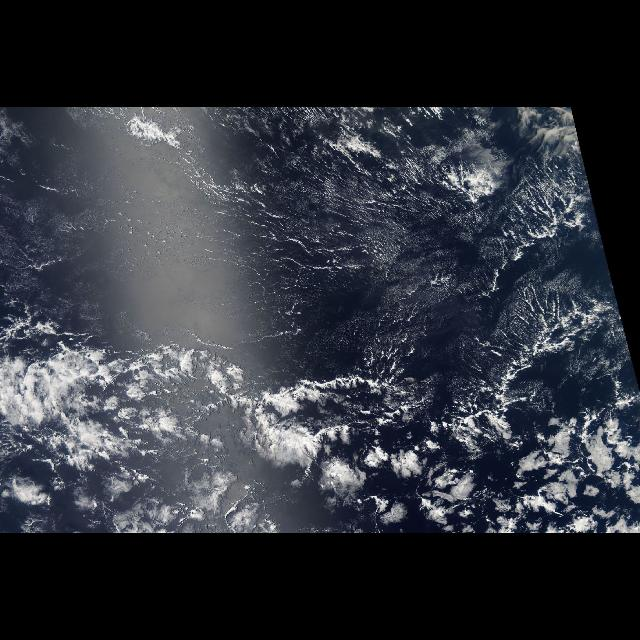Fish: (482, 160, 628, 410)
Flower: (334, 398, 636, 532)
Sugar: (301, 168, 624, 392)
